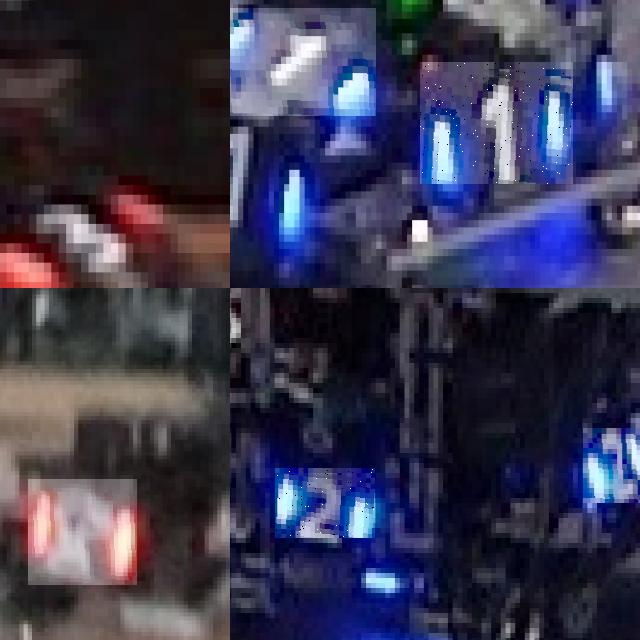B1: (420, 62, 573, 184), (230, 8, 376, 116), (230, 101, 310, 245)
B2: (275, 468, 375, 538), (582, 428, 640, 503)
Rs: (28, 479, 137, 585)
